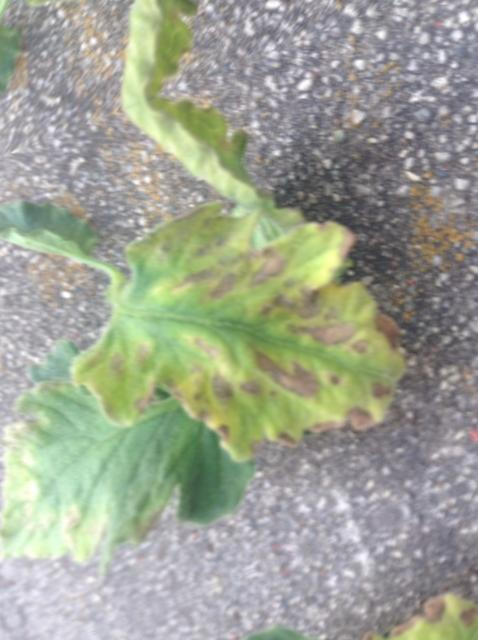Tomato mold leaf: (31, 137, 453, 522)
